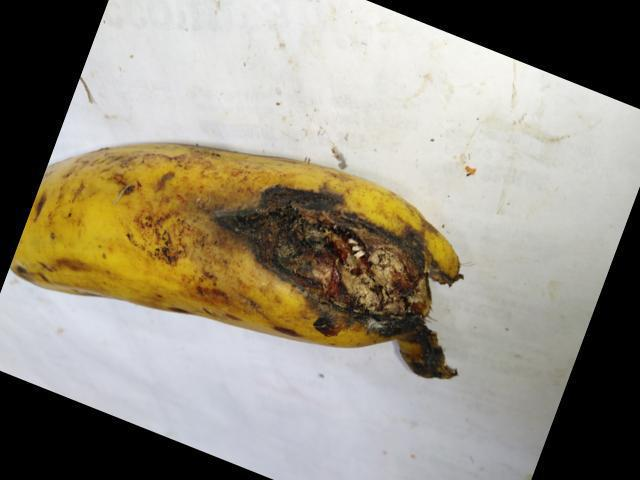rotten: (201, 165, 484, 376)
